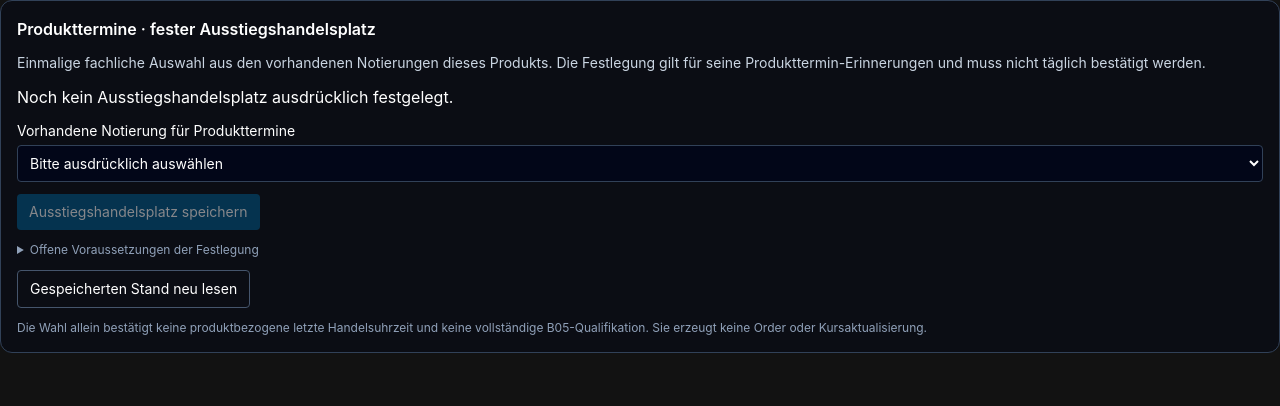
Test: saves one explicit business choice and retains it without daily confirmation
The image size is (1280, 406).
Select "Synthetischer Handelsplatz · XSYN · EUR · SYNTHETIC" in the dropdown labelled "Vorhandene Notierung für Produkttermine" at (640, 164), box [17,145,1263,182]
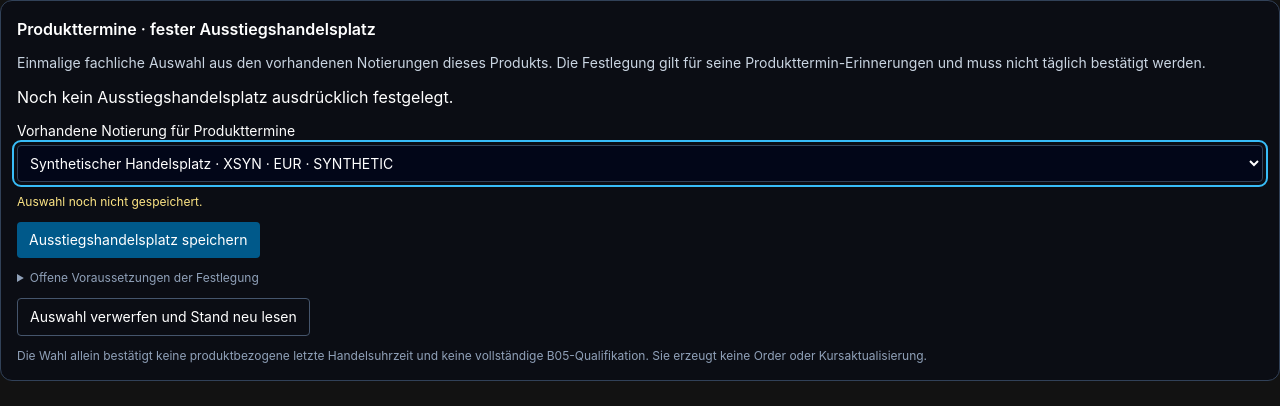
Check: the text "Auswahl noch nicht gespeichert." is shown, box [17,194,202,209]
Click the button "Ausstiegshandelsplatz speichern" at (138, 240), box [17,222,260,258]
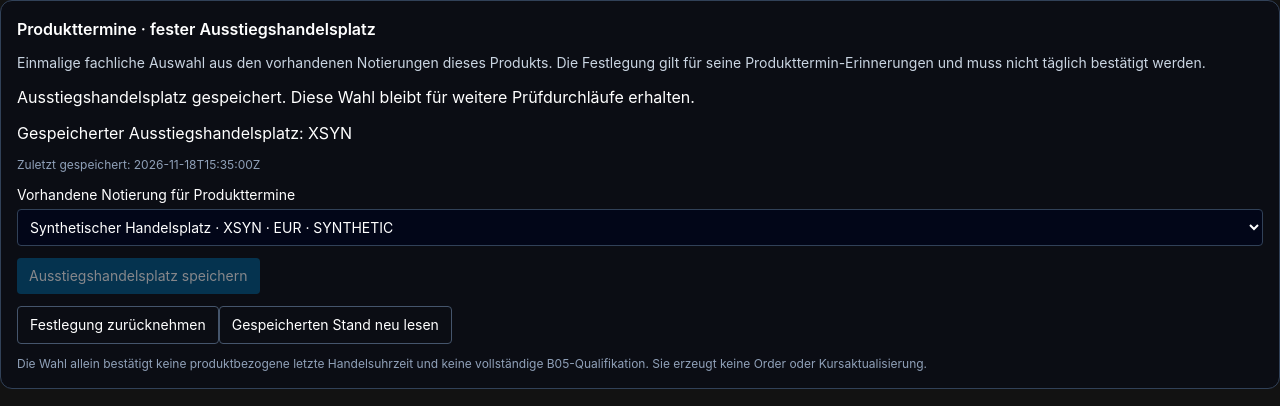
Check: the message shows "Diese Wahl bleibt für weitere Prüfdurchläufe erhalten", box [17,87,695,107]
Check: the text "Gespeicherter Ausstiegshandelsplatz: XSYN" is shown, box [17,123,352,143]
Check: the button "Ausstiegshandelsplatz speichern" is disabled, box [17,258,260,294]
